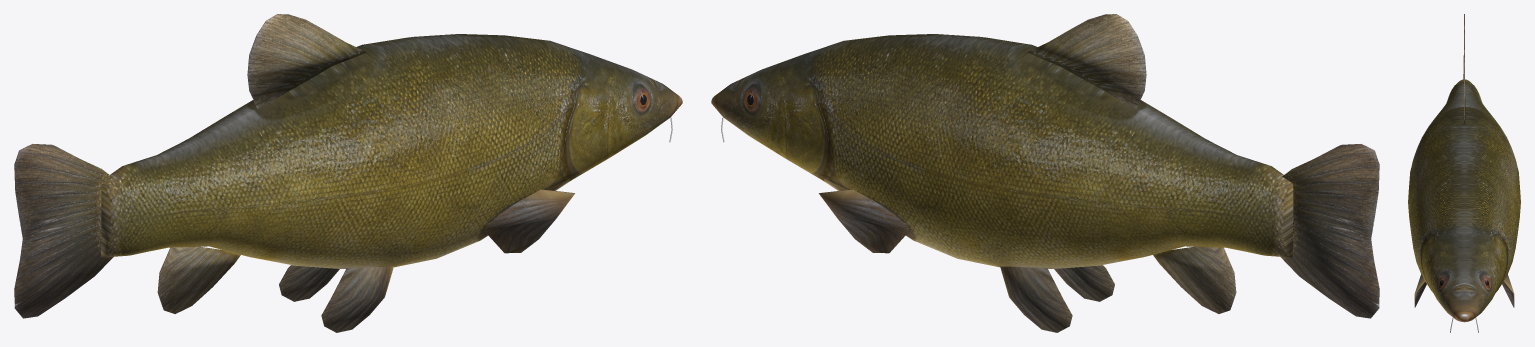
The model's file is tench.glb.
3 renders of one model, left to right at view 1: azimuth 30°, elevation 25°; view 2: azimuth 150°, elevation 25°; view 3: azimuth 270°, elevation 25°, orthographic. The views are drawn at different scales.
Parts seen in each view (by area): view 1: tench_realistic; view 2: tench_realistic; view 3: tench_realistic.
Boxes of the visible parts, x1,y1,x2,y2 form: tench_realistic: (14, 14, 682, 332); tench_realistic: (711, 14, 1379, 332); tench_realistic: (1408, 14, 1520, 332).
Bounding box in the file's own units: 0.9947 × 0.4466 × 0.208.
3 materials, 1 textured.
